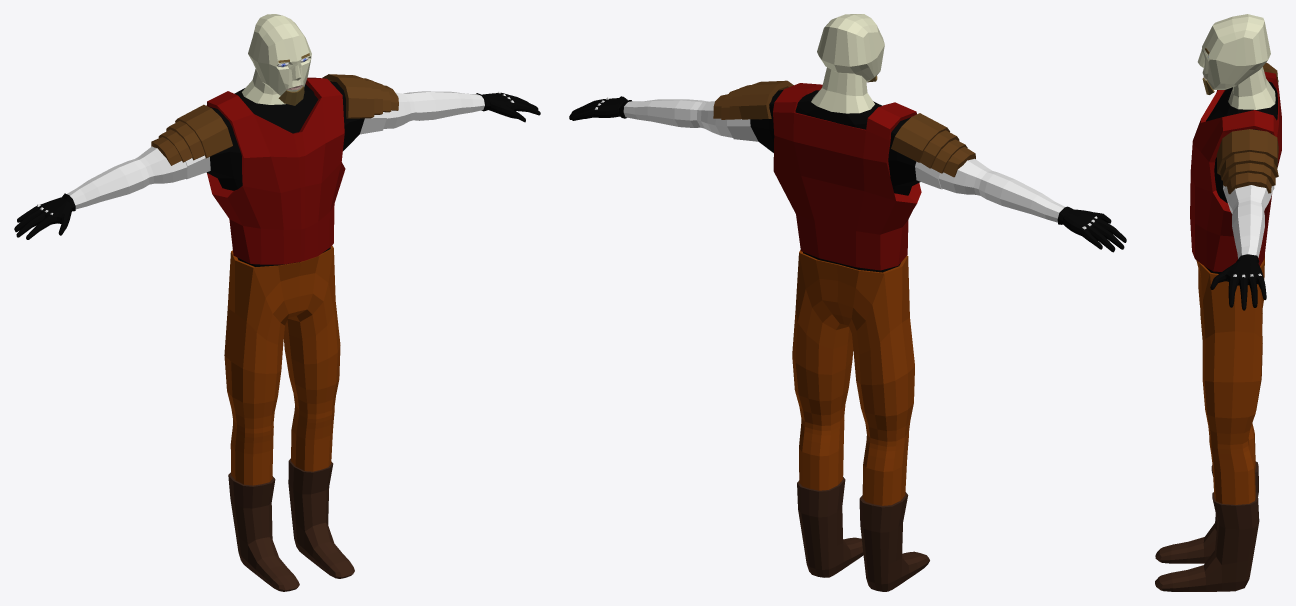
File: Human_MediumArmor.fbx
3 views of the same model, side by side, from view 1: azimuth 30°, elevation 25°; view 2: azimuth 150°, elevation 25°; view 3: azimuth 270°, elevation 25° (orthographic). The views are drawn at different scales.
Parts seen in each view (by area): view 1: Done.012; view 2: Done.012; view 3: Done.012.
Part boxes in pixels (x1,y1,x2,y2): Done.012: [14, 14, 540, 591]; Done.012: [569, 14, 1126, 591]; Done.012: [1155, 14, 1281, 591].
Bounding box in the file's own units: 420 × 415 × 85.44.
